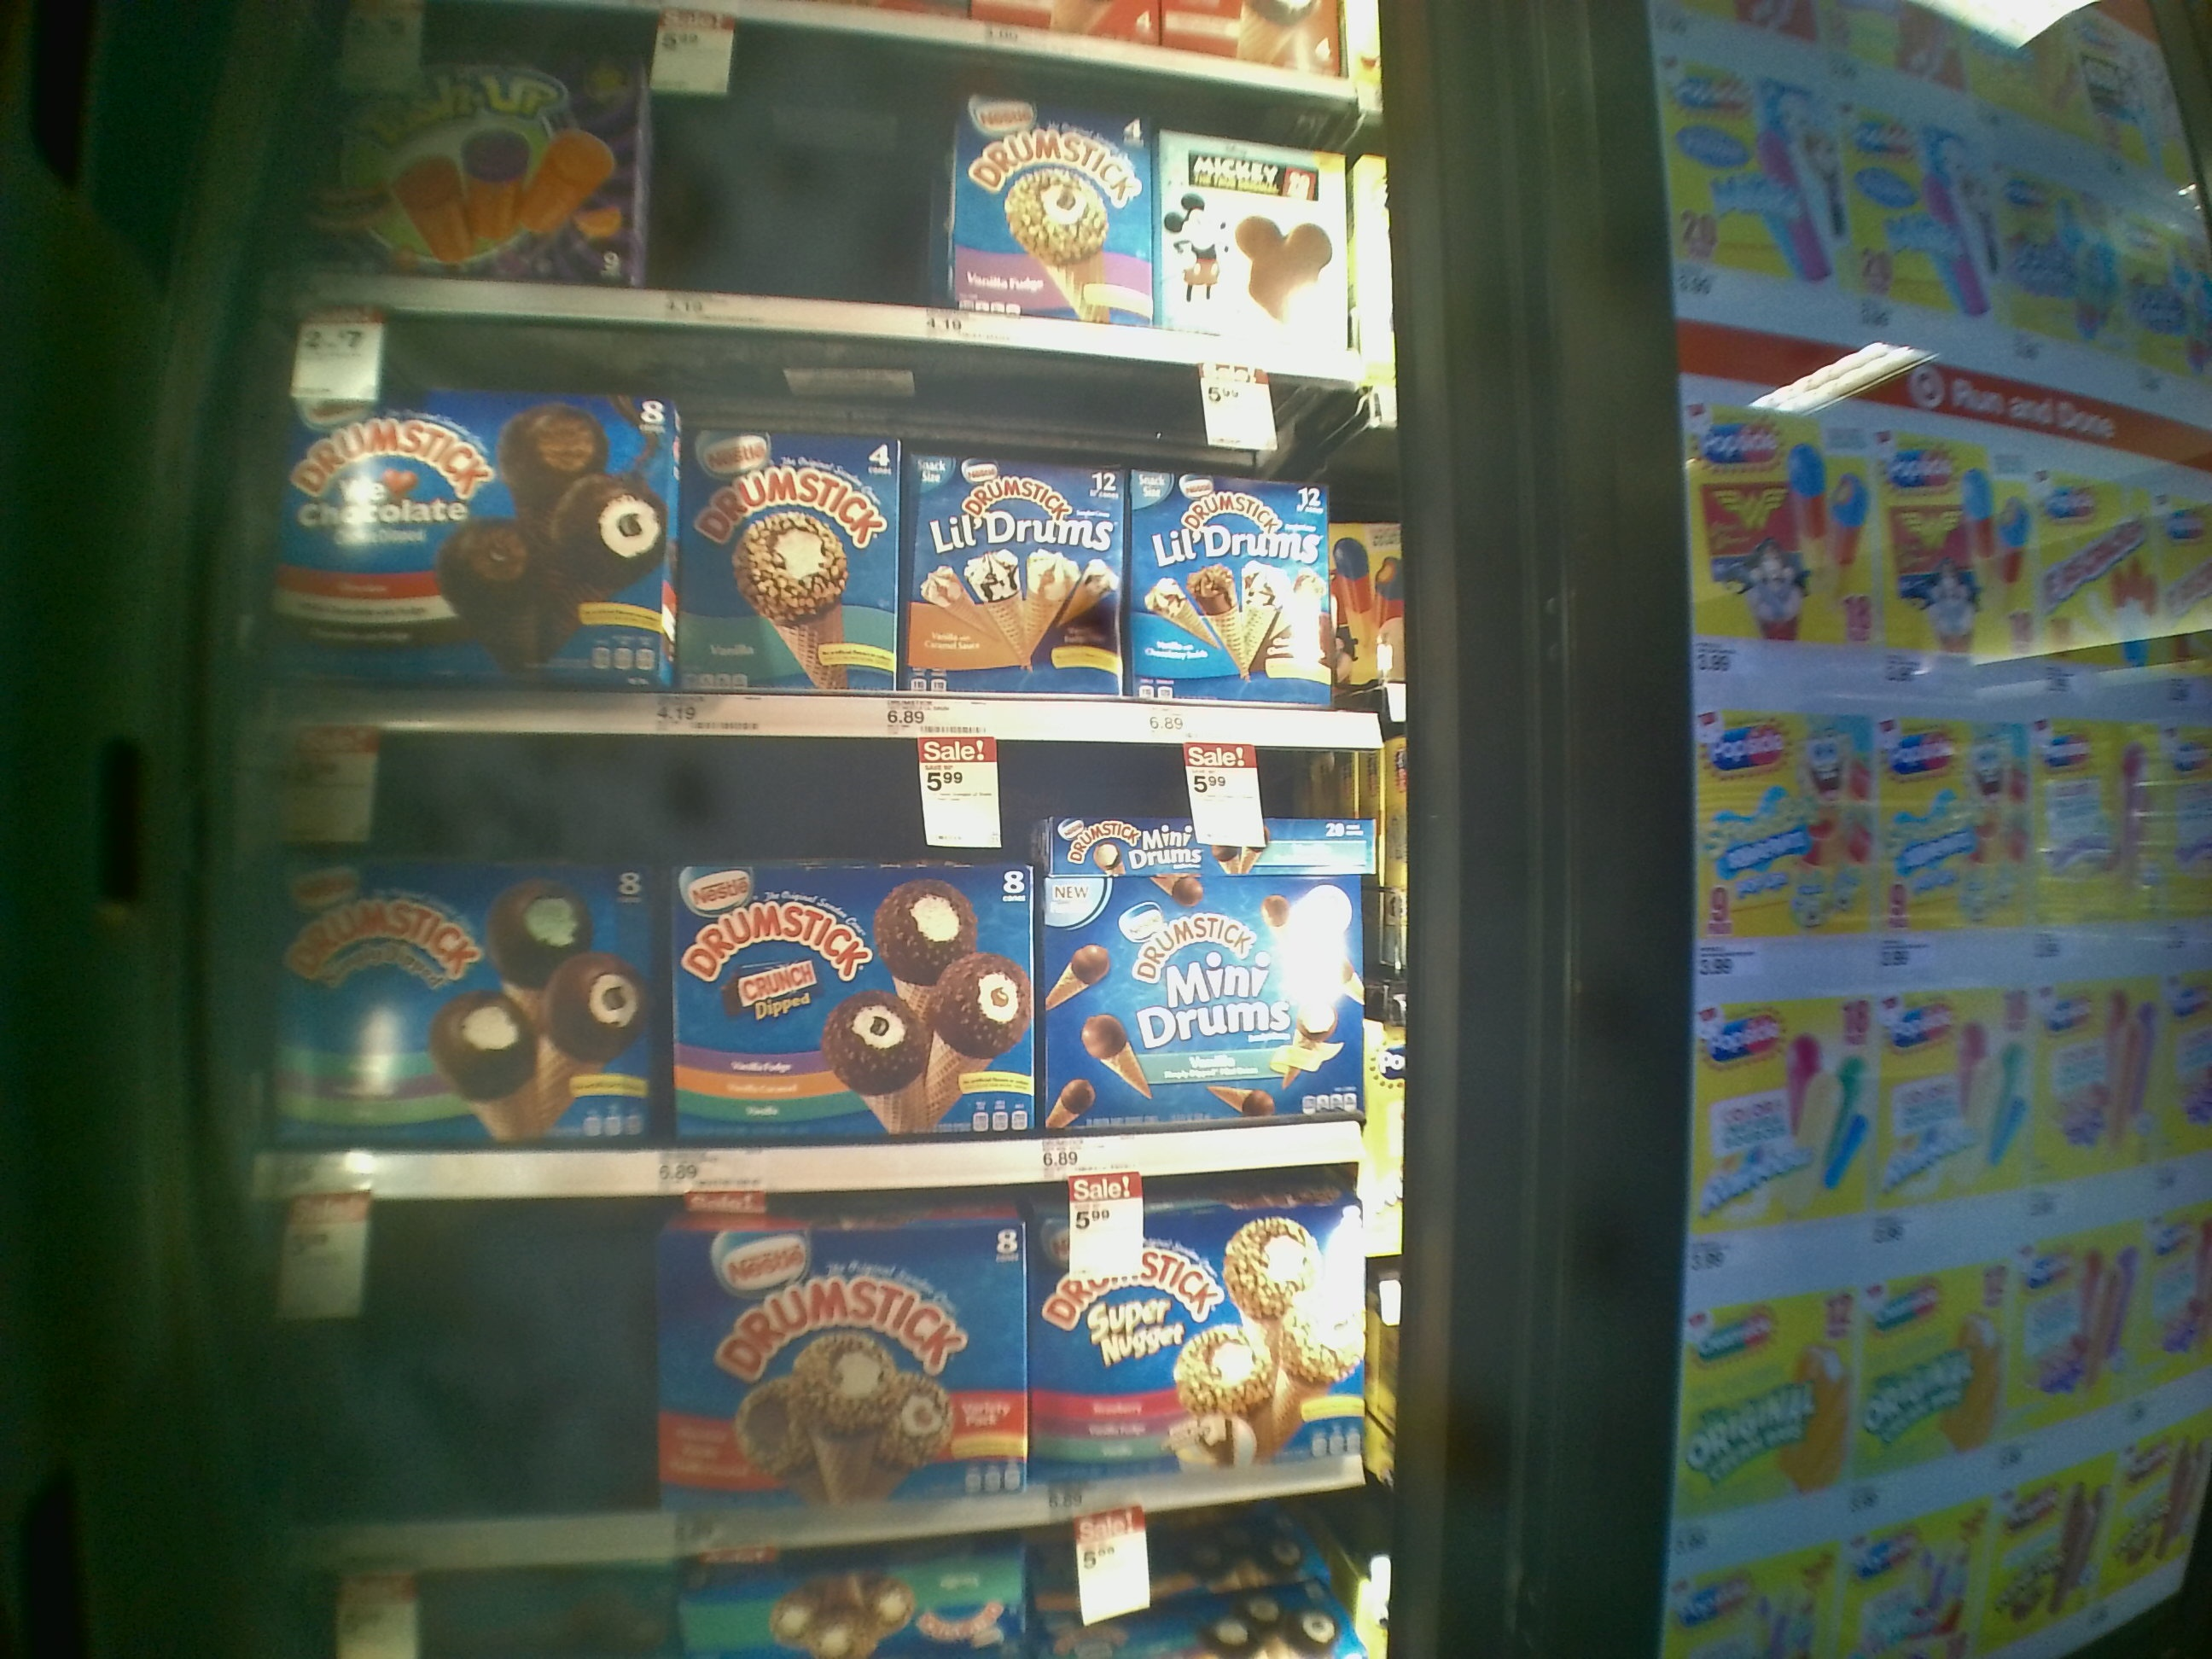shelf: (239, 732, 1407, 1194), (235, 312, 1404, 737), (235, 1150, 1393, 1577)
